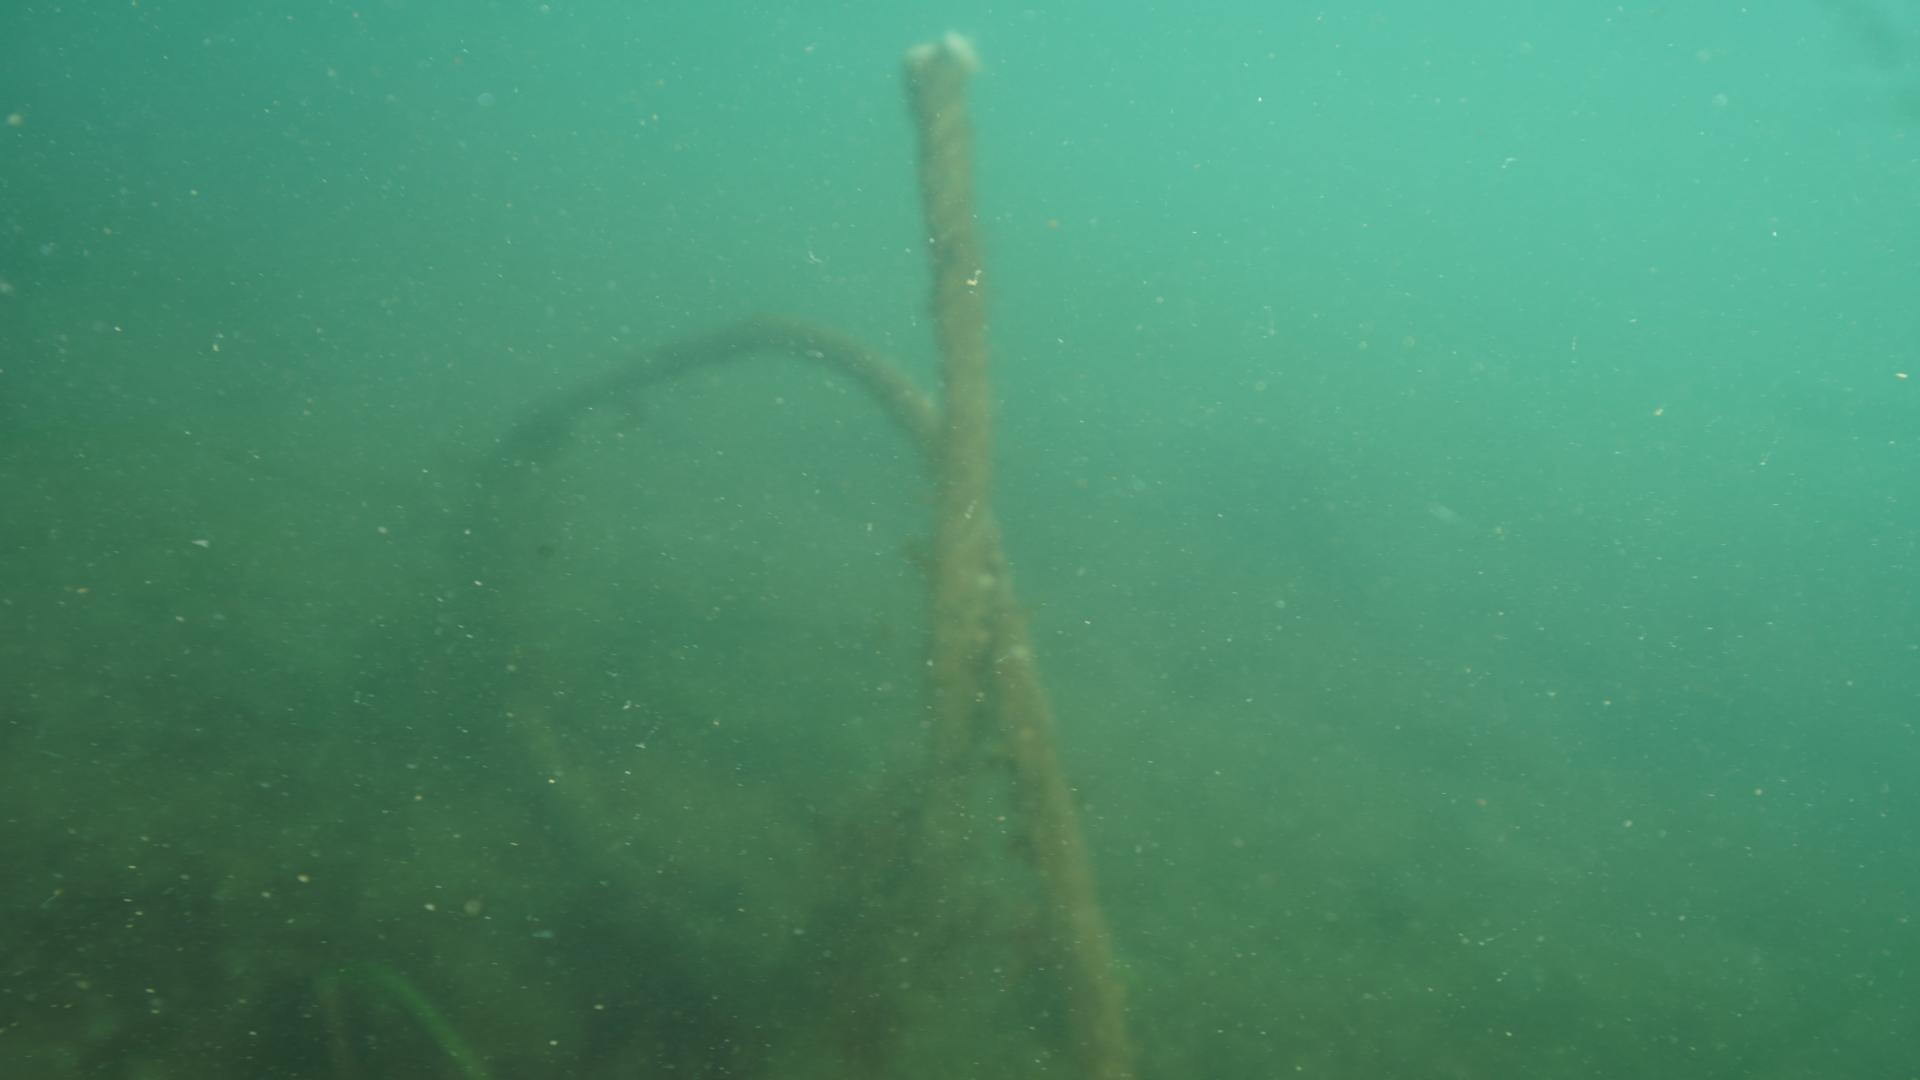bundle of ropes: (553, 32, 1129, 1080)
